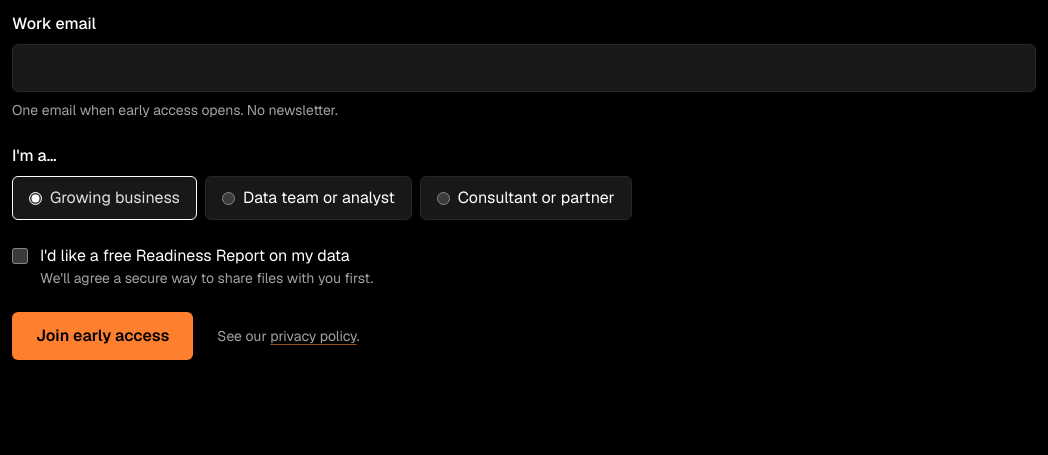
Test case: WaitlistForm › shows a recoverable error and keeps the input when sending fails (VEL-WEB-landing AC-04)
Type "sam@shop.com" into the field labelled "Work email". click: x=524, y=68
box: [12,44,1036,92]
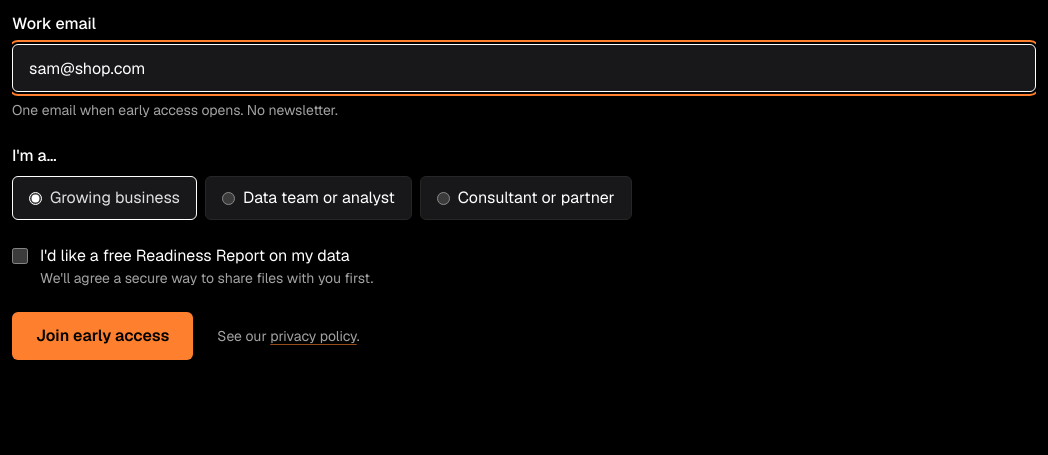
Click the radio button labelled "Data team or analyst". click: x=228, y=198
box: [222,192,235,204]
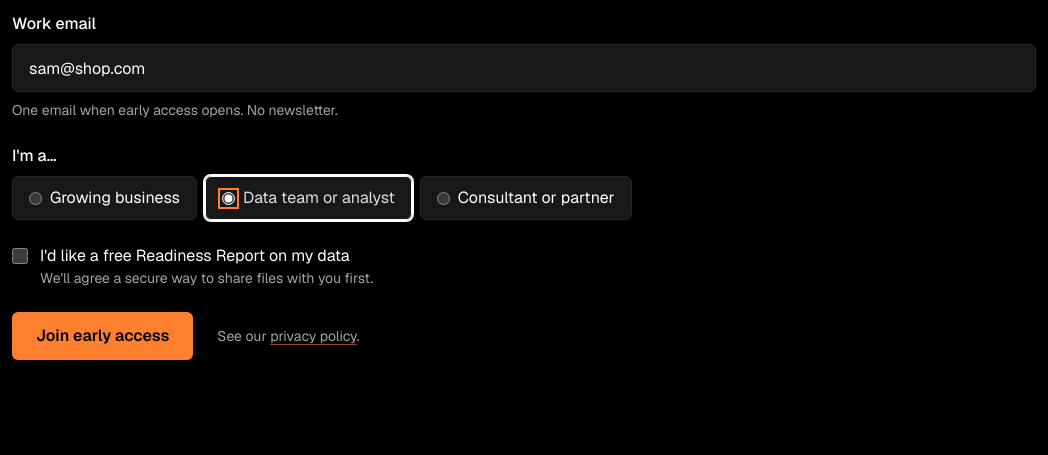
Click the checkbox labelled "free Readiness Report". click: x=20, y=256
box: [12,248,28,264]
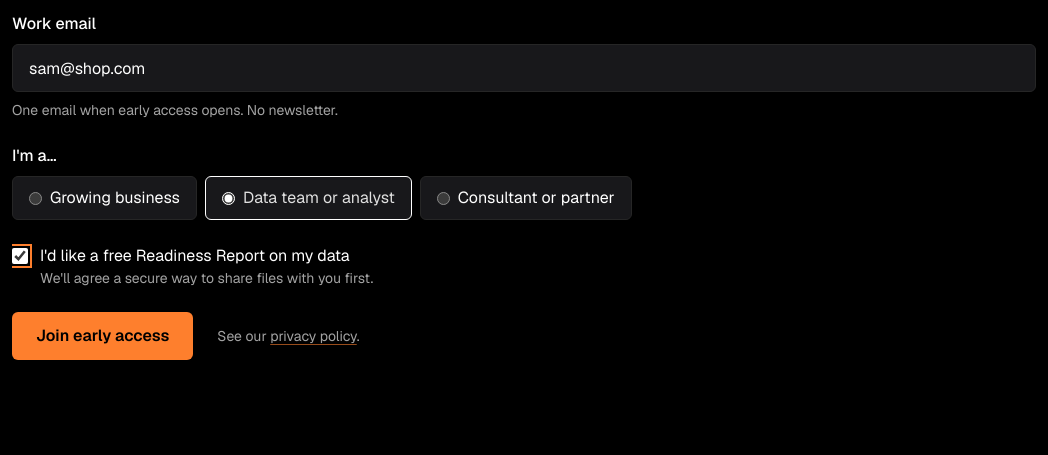
Click the button "Join early access". click: x=103, y=336
box: [12,312,193,360]
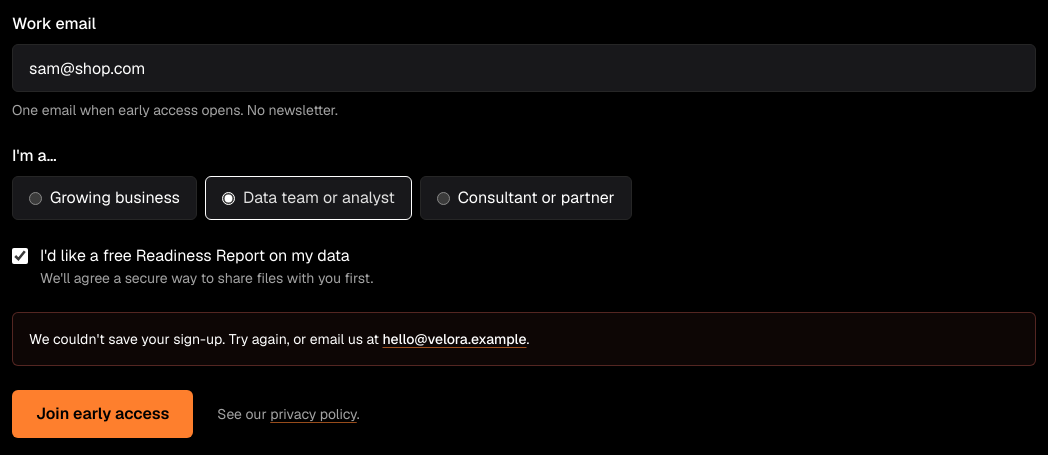
Expected: the radio button labelled "Data team or analyst" is checked, [222,192,235,204]
Expected: the message shows "We couldn't save your sign-up", [29,330,379,348]
